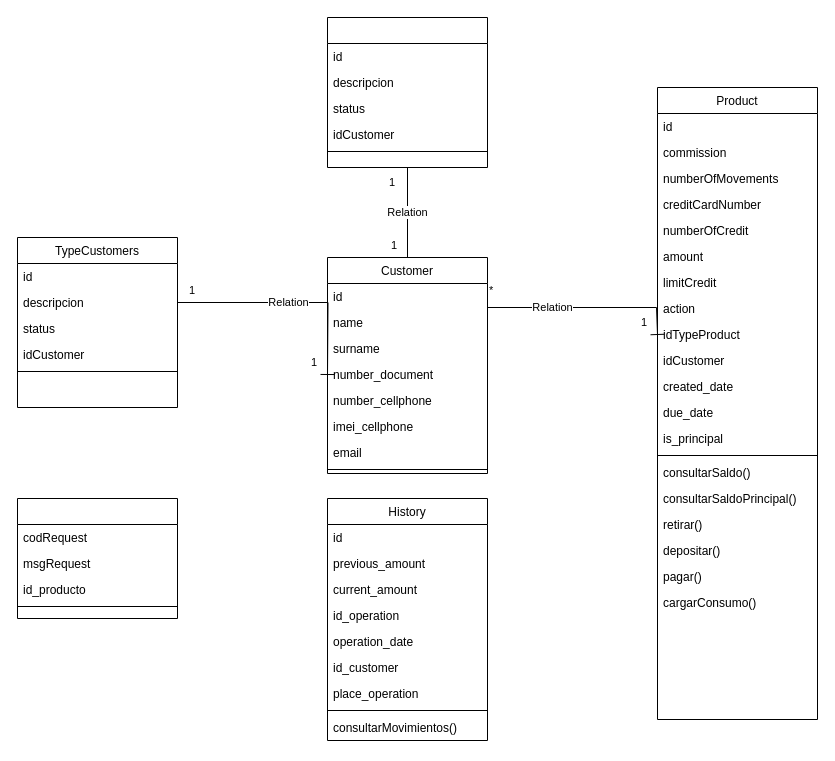
This 835x761 diagram has some shape labels left out. The box of each missing label's shape, as (x1, y1, x2, y2) in pixels:
Operation: (16, 498, 178, 618)
TypeRole: (326, 16, 488, 168)
